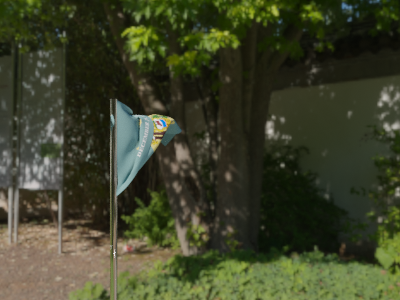Delaware flag: (114, 101, 182, 195)
